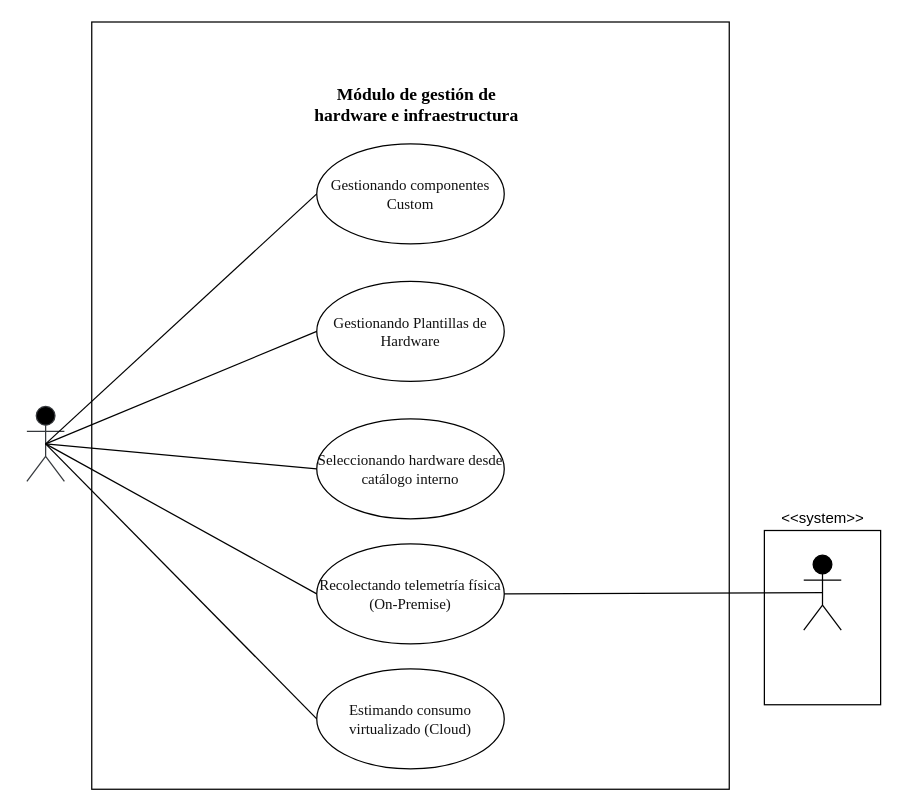
Some shapes in this 903 by 811 pixel diagram are drawn without their labels. The box of each missing label's shape, as (x1, y1, x2, y2) in pixels:
Sensor Físico / Infraestructura On-Premise: (802, 554, 841, 630)
Usuario: (26, 405, 64, 481)
